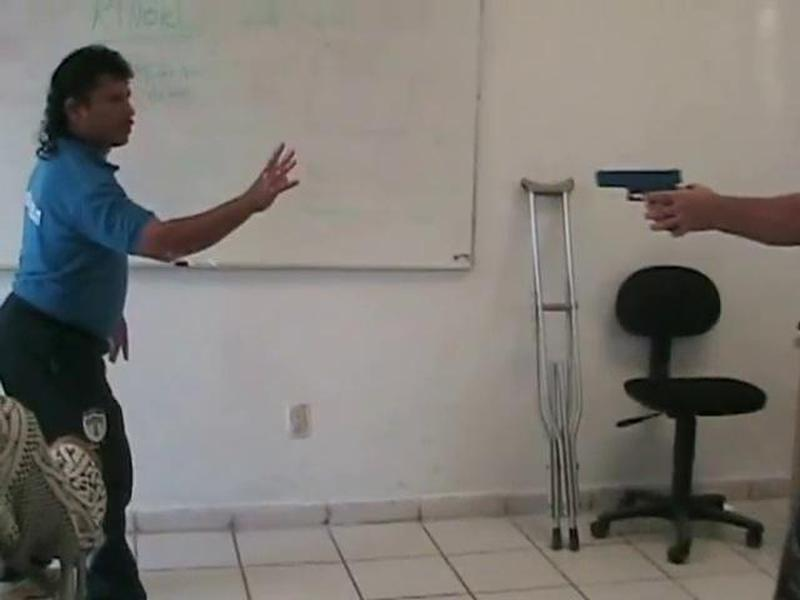Pistola: (576, 150, 709, 253)
